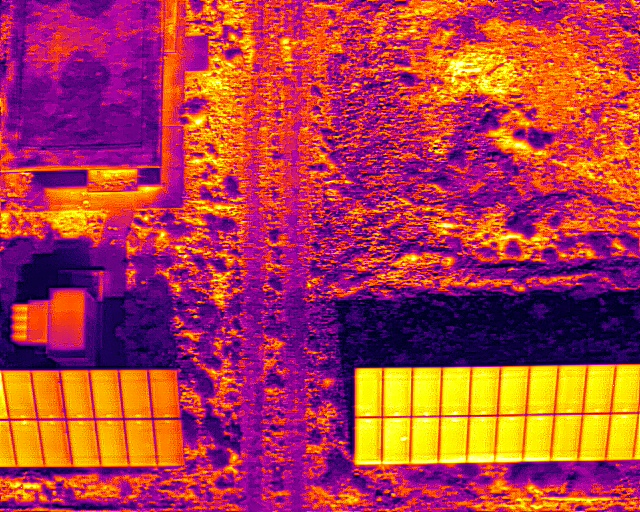photovoltaic_panels: (347, 361, 637, 470), (3, 363, 188, 474)
single_spot: (381, 417, 411, 464)
